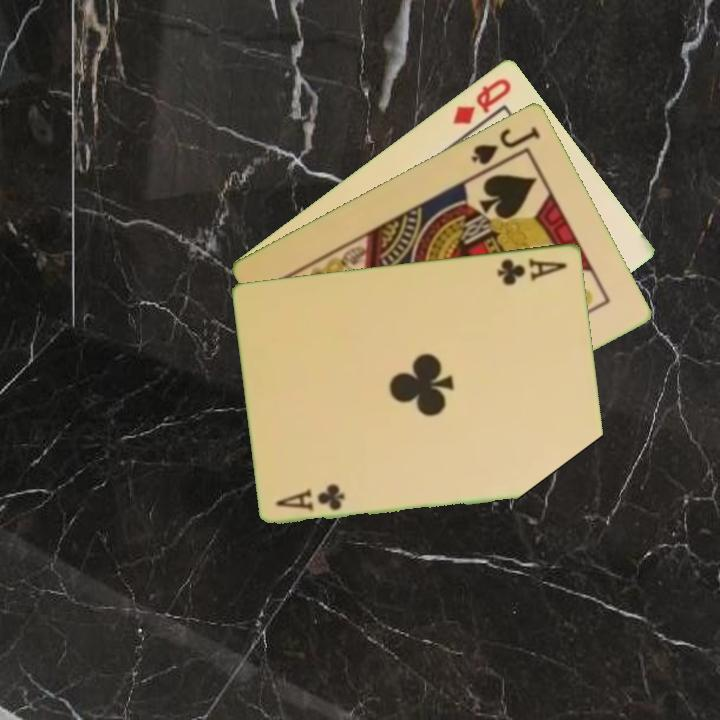Ac: (493, 254, 571, 288), (272, 481, 348, 514)
Js: (467, 122, 544, 167)
Qd: (449, 74, 515, 127)
